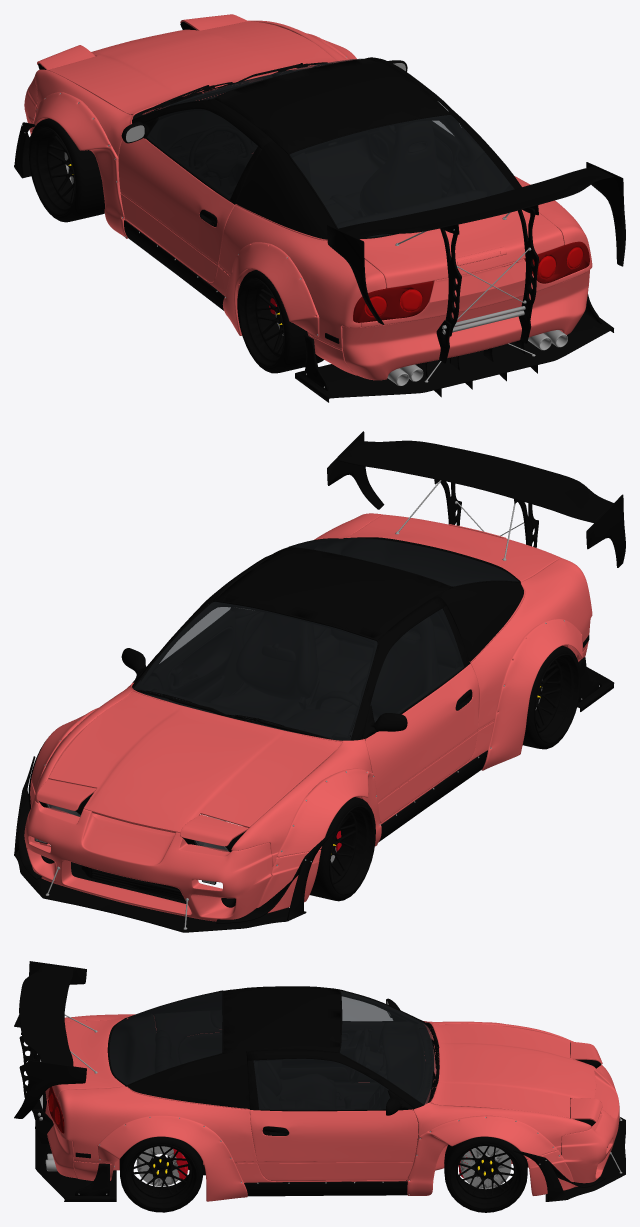
3 renders of one model, top to bottom at view 1: azimuth 30°, elevation 25°; view 2: azimuth 150°, elevation 25°; view 3: azimuth 270°, elevation 25°, orthographic. The views are drawn at different scales.
Visible parts, largest first — view 1: Body, Wheel_FL, Wheel_RL, SteeringWheel; view 2: Body, Wheel_FL, Wheel_RL; view 3: Body, Wheel_FR, Wheel_RR, SteeringWheel.
Boxes of the visible parts, x1,y1,x2,y2 form: Body: [14, 14, 625, 402]; Wheel_FL: [28, 118, 104, 222]; Wheel_RL: [237, 270, 323, 373]; SteeringWheel: [188, 126, 251, 194]; Body: [14, 431, 625, 932]; Wheel_FL: [310, 797, 375, 901]; Wheel_RL: [522, 645, 580, 749]; Body: [14, 961, 625, 1201]; Wheel_FR: [444, 1136, 527, 1212]; Wheel_RR: [119, 1136, 202, 1212]; SteeringWheel: [349, 1030, 366, 1083].
Bounding box in the file's own units: 2.09 × 1.24 × 4.66.
